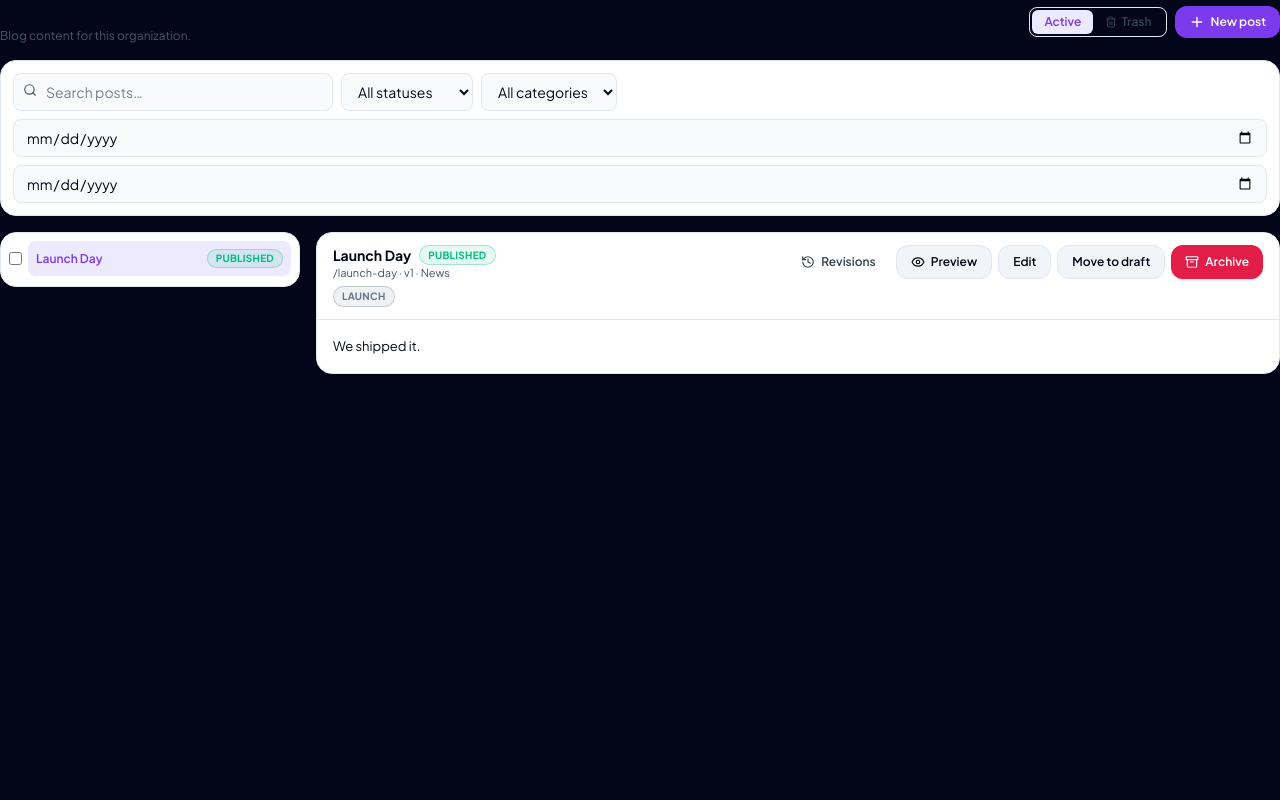
it: PostsPage › lets a PUBLISHED post be edited in place: live notice shown, and Save sends no status (a live edit, not an unpublish)
Later steps or results of the test are not shown.
Expected: the text "We shipped it." is shown, [333,338,420,354]
Click the button "Edit" at [1025, 262], box [998,245,1051,279]
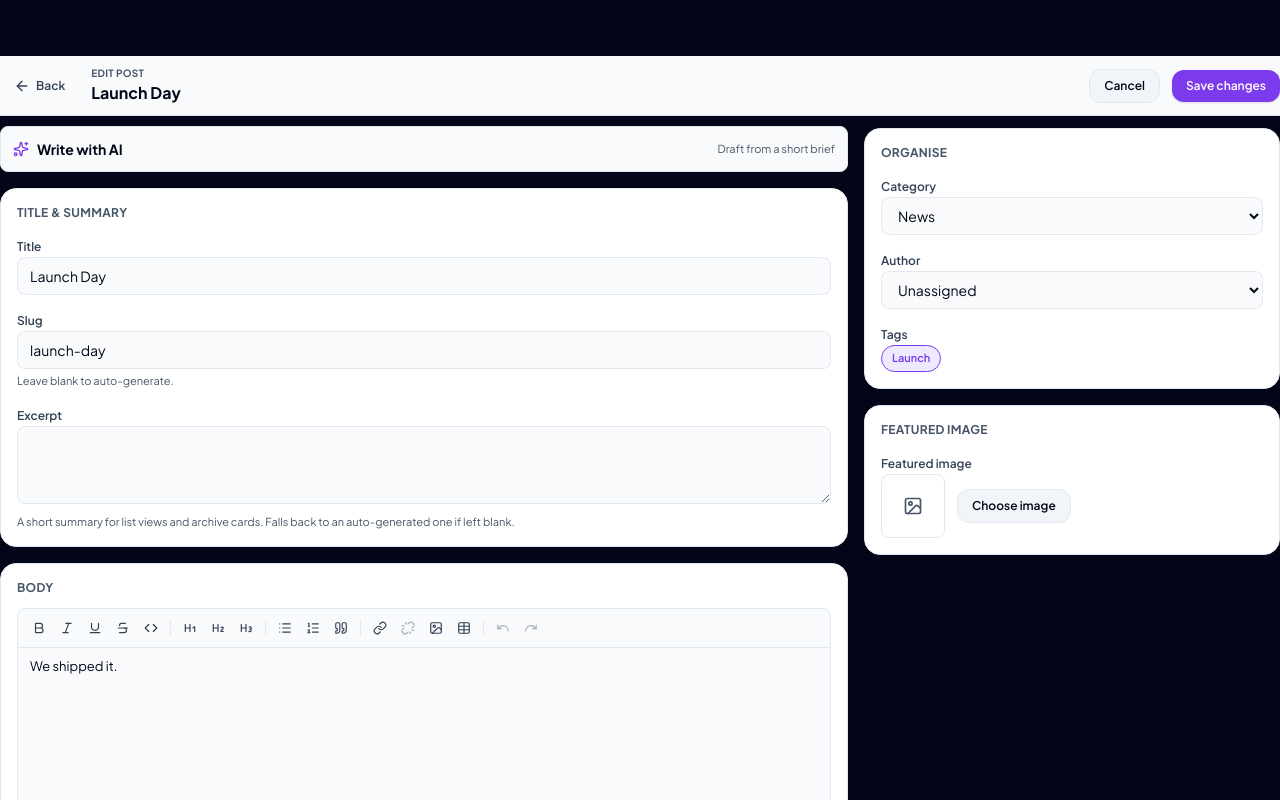
Expected: the text "This post is live" is shown, [13,85,799,100]
